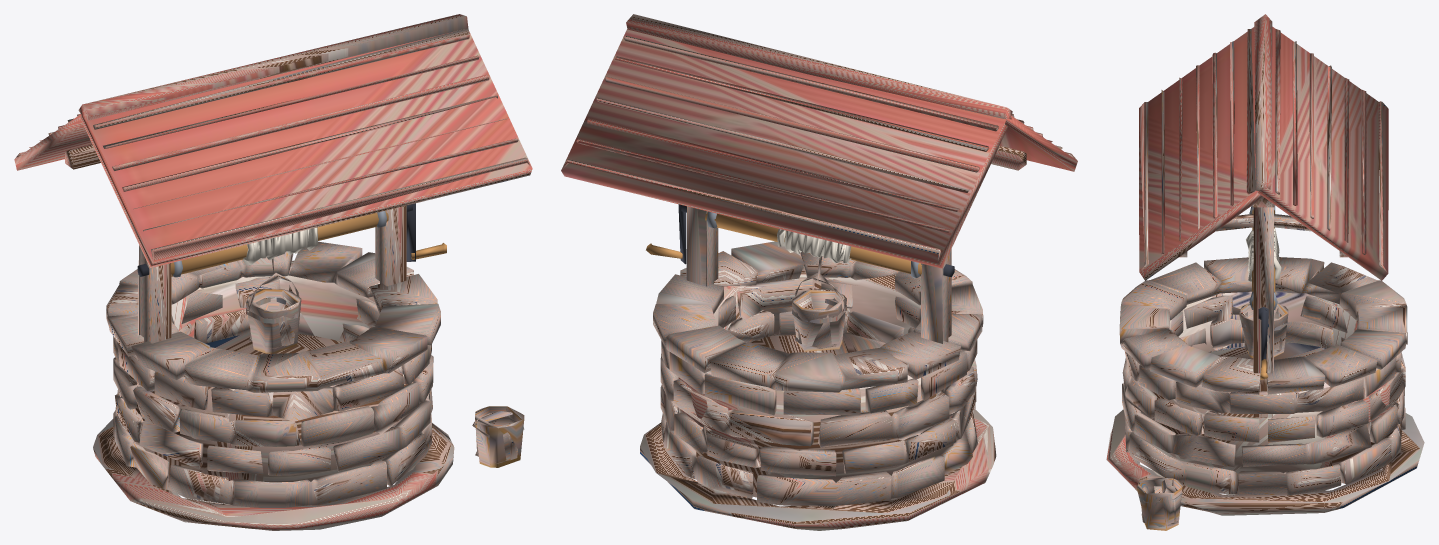
The model's file is village-well.glb.
3 renders of one model, left to right at view 1: azimuth 30°, elevation 25°; view 2: azimuth 150°, elevation 25°; view 3: azimuth 270°, elevation 25°, orthographic. The views are drawn at different scales.
Parts seen in each view (by area): view 1: village-well_body, village-well_winch; view 2: village-well_body, village-well_winch; view 3: village-well_body, village-well_winch.
Part boxes in pixels (x1,y1,x2,y2): village-well_body: [14, 14, 532, 530]; village-well_winch: [137, 203, 446, 277]; village-well_body: [561, 14, 1077, 530]; village-well_winch: [646, 204, 954, 278]; village-well_body: [1106, 14, 1424, 530]; village-well_winch: [1246, 205, 1281, 379].
Size of the model in its own units: 2.33 by 2.33 by 1.9.
Materials: 5 (1 with a texture image).
